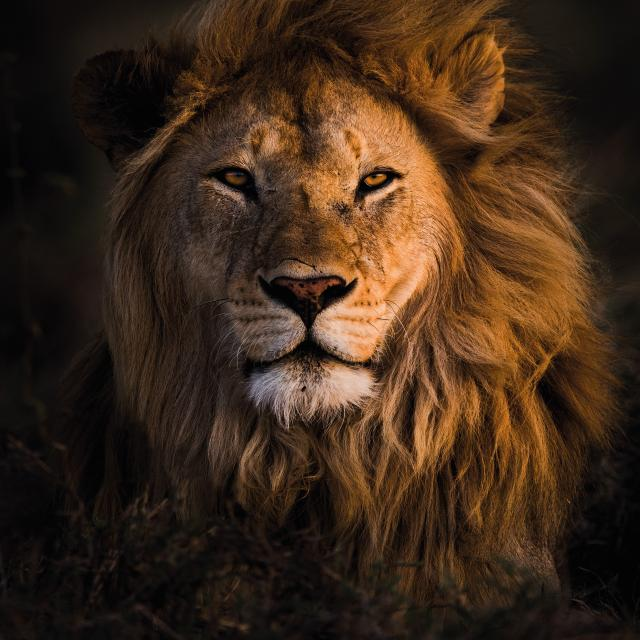Lion: (61, 0, 618, 594)
